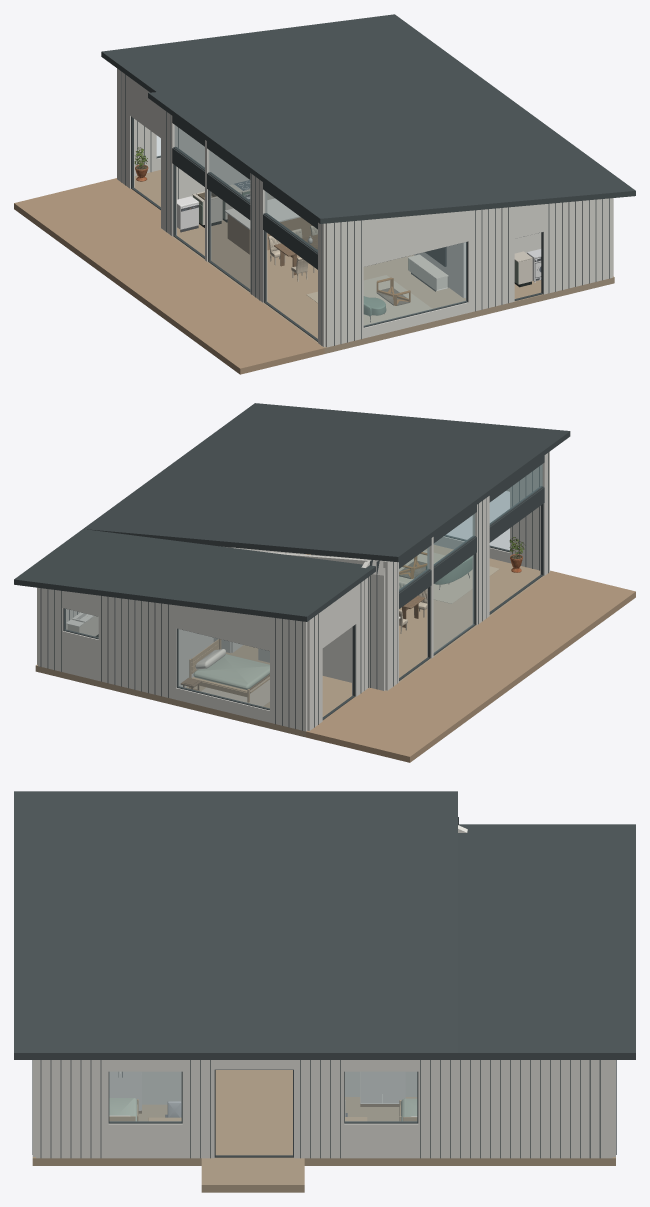
The picture shows the model from 3 angles, top to bottom: view 1: azimuth 30°, elevation 25°; view 2: azimuth 150°, elevation 25°; view 3: azimuth 270°, elevation 25°; orthographic projection. The views are drawn at different scales.
Visible parts, largest first — view 1: Living wing shed roof, rear-deck, Master wing shed roof, ground/slab/0, ground/left/glass-1, ground/left/pier-0, ground/left/end, ground/left/pier-1, ground/left/header-1, ground/rear-living/glass-1, ground/slab/1, ground/rear-living/pier-1 (+24 smaller); view 2: Living wing shed roof, rear-deck, Master wing shed roof, ground/right/pier-1, ground/slab/0, ground/right/glass-1, ground/right/end, ground/rear-living/glass-1, ground/right/header-1, ground/slab/1, ground/master-return/end, ground/left/end (+27 smaller); view 3: Living wing shed roof, Master wing shed roof, ground/front/end, ground/slab/0, ground/front/pier-0, ground/front/pier-2, ground/front/glass-0, front-porch, ground/front/glass-2, ground/front/pier-1, ground/front/sill-0, ground/front/sill-2 (+8 smaller).
Boxes of the visible parts, x1,y1,x2,y2 form: Living wing shed roof: (148,65,635,223); rear-deck: (14,182,324,374); Master wing shed roof: (101,14,463,92); ground/slab/0: (134,170,614,349); ground/left/glass-1: (364,242,466,325); ground/left/pier-0: (543,198,612,294); ground/left/end: (325,220,363,347); ground/left/pier-1: (468,207,514,312); ground/left/header-1: (363,211,468,266); ground/rear-living/glass-1: (210,191,249,289); ground/slab/1: (160,227,344,353); ground/rear-living/pier-1: (250,173,267,302); Living wing shed roof: (83,403,570,562); rear-deck: (326,571,635,762); Master wing shed roof: (14,529,375,621); ground/right/pier-1: (98,595,176,699); ground/slab/0: (35,545,528,737); ground/right/glass-1: (178,629,269,708); ground/right/end: (270,617,307,731); ground/rear-living/glass-1: (434,555,473,653); ground/right/header-1: (176,605,269,650); ground/slab/1: (385,568,551,691); ground/master-return/end: (369,559,385,690); ground/left/end: (510,466,540,570); Living wing shed roof: (14,791,457,1059); Master wing shed roof: (458,824,635,1059); ground/front/end: (418,1060,612,1158); ground/slab/0: (32,1070,615,1165); ground/front/pier-0: (36,1060,108,1158); ground/front/pier-2: (294,1060,344,1158); ground/front/glass-0: (109,1072,181,1121); front-porch: (201,1158,304,1192); ground/front/glass-2: (345,1072,416,1121); ground/front/pier-1: (182,1060,214,1158); ground/front/sill-0: (108,1123,182,1158); ground/front/sill-2: (344,1123,418,1158).
Bounding box in the file's own units: 14.93 × 4.9 × 14.95.
Materials: 79 (8 with a texture image).
